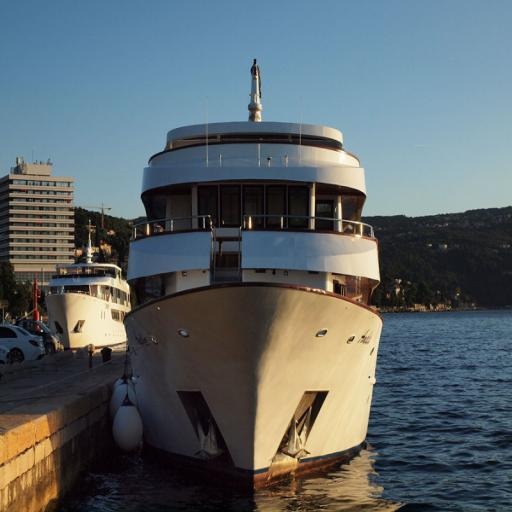cruises: (123, 50, 378, 480)
